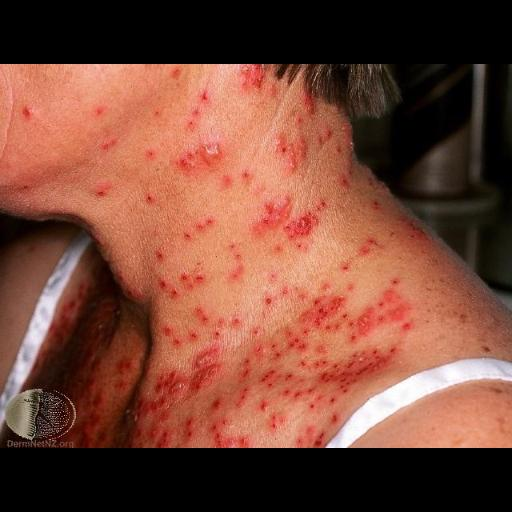Skin_Lesion: (252, 201, 320, 253), (344, 296, 414, 346), (178, 138, 226, 178), (181, 84, 217, 132), (328, 360, 364, 400), (276, 131, 306, 175), (307, 296, 343, 332), (233, 64, 269, 92), (166, 367, 188, 411), (118, 272, 146, 302), (225, 251, 247, 285), (252, 200, 280, 226), (182, 270, 210, 294), (300, 89, 320, 119), (210, 425, 234, 447), (94, 178, 114, 202), (357, 232, 375, 258), (90, 98, 110, 120), (194, 212, 212, 236), (20, 100, 38, 124), (98, 134, 118, 154), (286, 332, 304, 354), (116, 412, 140, 428), (152, 424, 168, 448), (166, 324, 182, 346), (142, 188, 158, 210), (266, 412, 282, 432), (220, 170, 234, 192), (168, 64, 184, 82), (235, 389, 251, 407), (261, 370, 277, 388), (238, 358, 252, 378), (338, 170, 352, 190), (399, 318, 415, 334), (196, 304, 210, 322), (154, 244, 168, 262), (308, 397, 322, 413), (198, 86, 210, 104), (168, 283, 180, 301), (348, 330, 362, 344), (263, 293, 275, 307), (211, 398, 223, 412), (240, 168, 252, 182), (328, 410, 338, 426), (230, 316, 242, 328), (340, 261, 350, 275), (258, 400, 268, 412), (188, 329, 198, 341), (160, 276, 168, 290), (186, 424, 192, 436)
